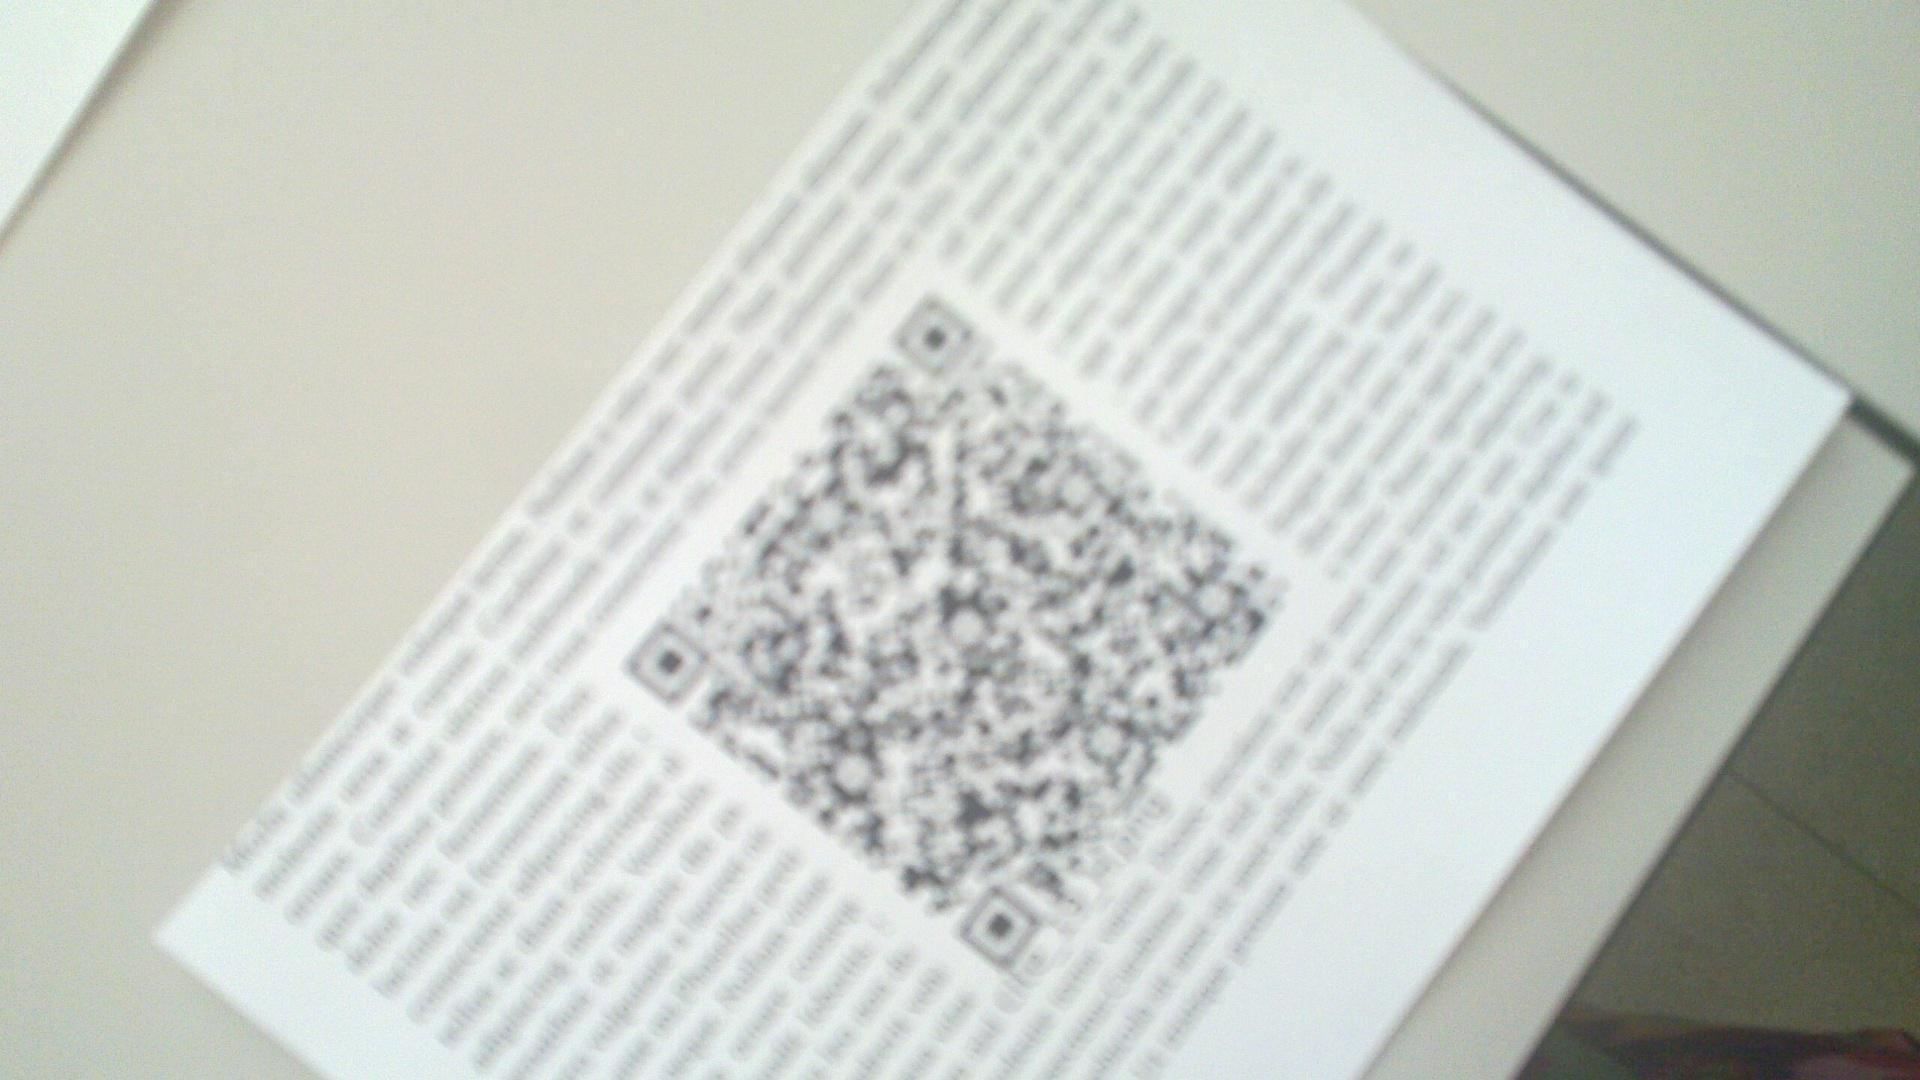qr_code: (624, 295, 1294, 969)
